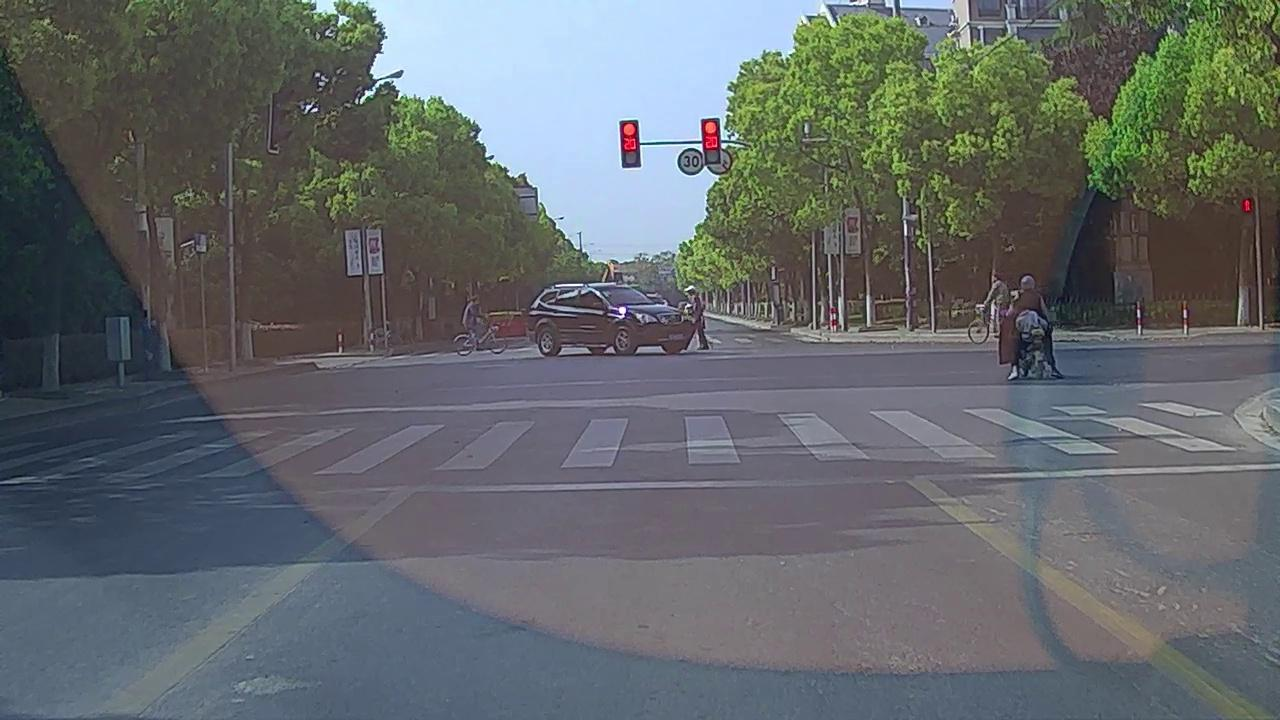traffic_light: (621, 120, 641, 165), (703, 119, 721, 164)
